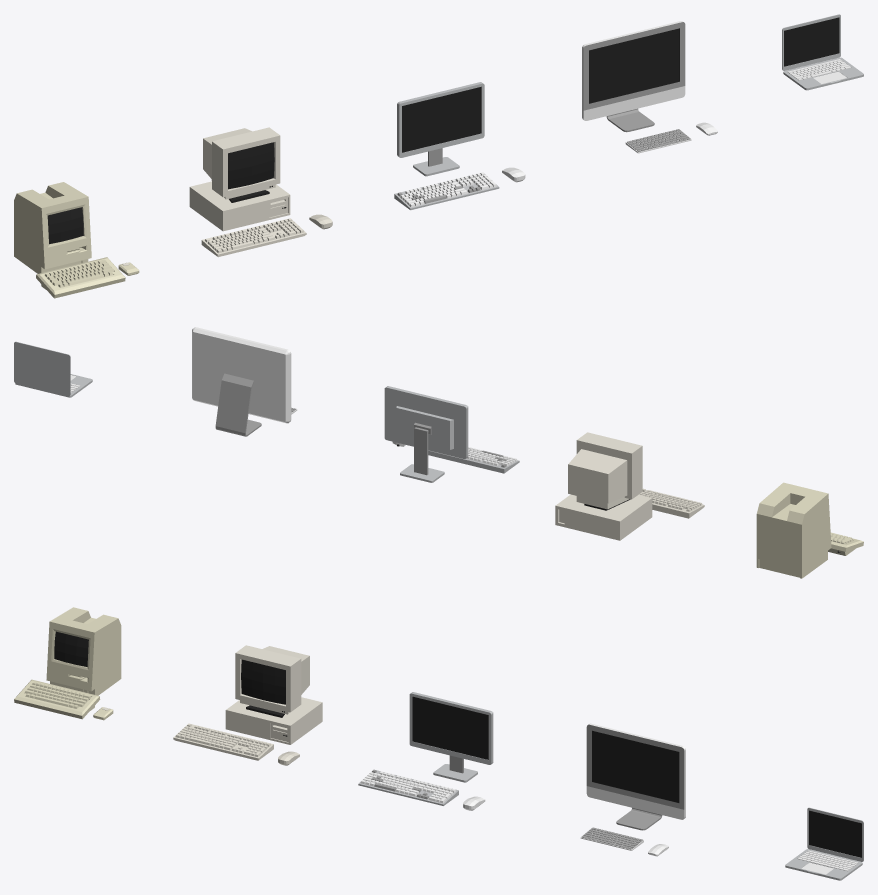
Rendered from computer_and_gadgets.glb.
3 renders of one model, top to bottom at view 1: azimuth 30°, elevation 25°; view 2: azimuth 150°, elevation 25°; view 3: azimuth 330°, elevation 25°, orthographic. The views are drawn at different scales.
Parts seen in each view (by area): view 1: iMac, macintosh, newDesktop, oldDesktop, macBook, oldDesktopCpu, macintoshKeyboard, oldDesktopKeyboard, newDesktopKeyboard, iMacKeyboard; view 2: iMac, macintosh, newDesktop, oldDesktop, oldDesktopCpu, macBook, newDesktopKeyboard, oldDesktopKeyboard, macintoshKeyboard; view 3: iMac, macintosh, newDesktop, oldDesktop, macBook, oldDesktopCpu, macintoshKeyboard, oldDesktopKeyboard, newDesktopKeyboard, iMacKeyboard.
Part boxes in pixels (x1=…): iMac: x1=582, y1=21, x2=685, y2=132; macintosh: x1=14, y1=182, x2=91, y2=273; newDesktop: x1=397, y1=82, x2=484, y2=176; oldDesktop: x1=203, y1=127, x2=280, y2=202; macBook: x1=782, y1=14, x2=863, y2=90; oldDesktopCpu: x1=189, y1=181, x2=290, y2=231; macintoshKeyboard: x1=36, y1=257, x2=125, y2=298; oldDesktopKeyboard: x1=201, y1=218, x2=306, y2=256; newDesktopKeyboard: x1=394, y1=172, x2=499, y2=210; iMacKeyboard: x1=625, y1=129, x2=691, y2=153; iMac: x1=192, y1=327, x2=291, y2=436; macintosh: x1=756, y1=482, x2=831, y2=578; newDesktop: x1=384, y1=386, x2=468, y2=482; oldDesktop: x1=568, y1=432, x2=642, y2=510; oldDesktopCpu: x1=555, y1=494, x2=652, y2=540; macBook: x1=14, y1=341, x2=92, y2=397; newDesktopKeyboard: x1=428, y1=447, x2=519, y2=473; oldDesktopKeyboard: x1=639, y1=488, x2=704, y2=518; macintoshKeyboard: x1=828, y1=532, x2=863, y2=555; iMac: x1=586, y1=723, x2=685, y2=830; macintosh: x1=46, y1=607, x2=121, y2=695; newDesktop: x1=409, y1=692, x2=493, y2=782; oldDesktop: x1=235, y1=645, x2=309, y2=717; macBook: x1=785, y1=807, x2=863, y2=880; oldDesktopCpu: x1=225, y1=697, x2=322, y2=744; macintoshKeyboard: x1=14, y1=679, x2=100, y2=719; oldDesktopKeyboard: x1=173, y1=723, x2=273, y2=760; newDesktopKeyboard: x1=358, y1=769, x2=458, y2=805; iMacKeyboard: x1=580, y1=827, x2=643, y2=850.
Size of the model in its own units: 4.34 by 0.45 by 0.535.
